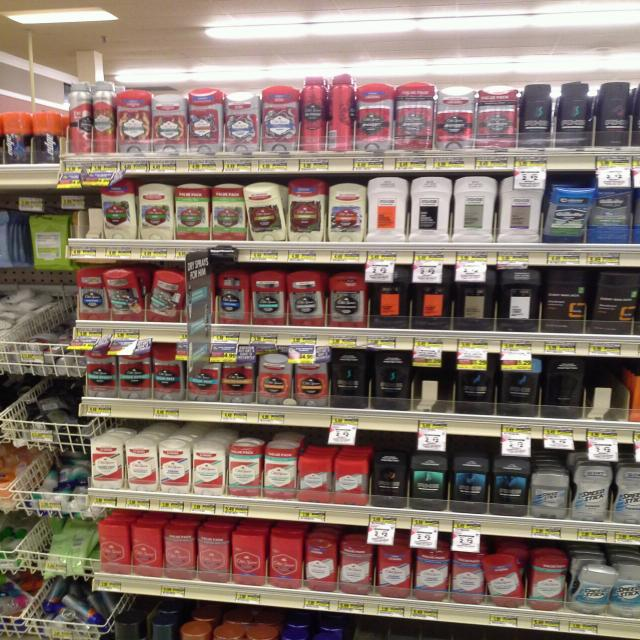unorganised: (101, 262, 187, 326), (66, 81, 117, 157), (241, 178, 287, 245), (482, 544, 527, 608), (543, 356, 586, 420), (329, 75, 355, 157)
